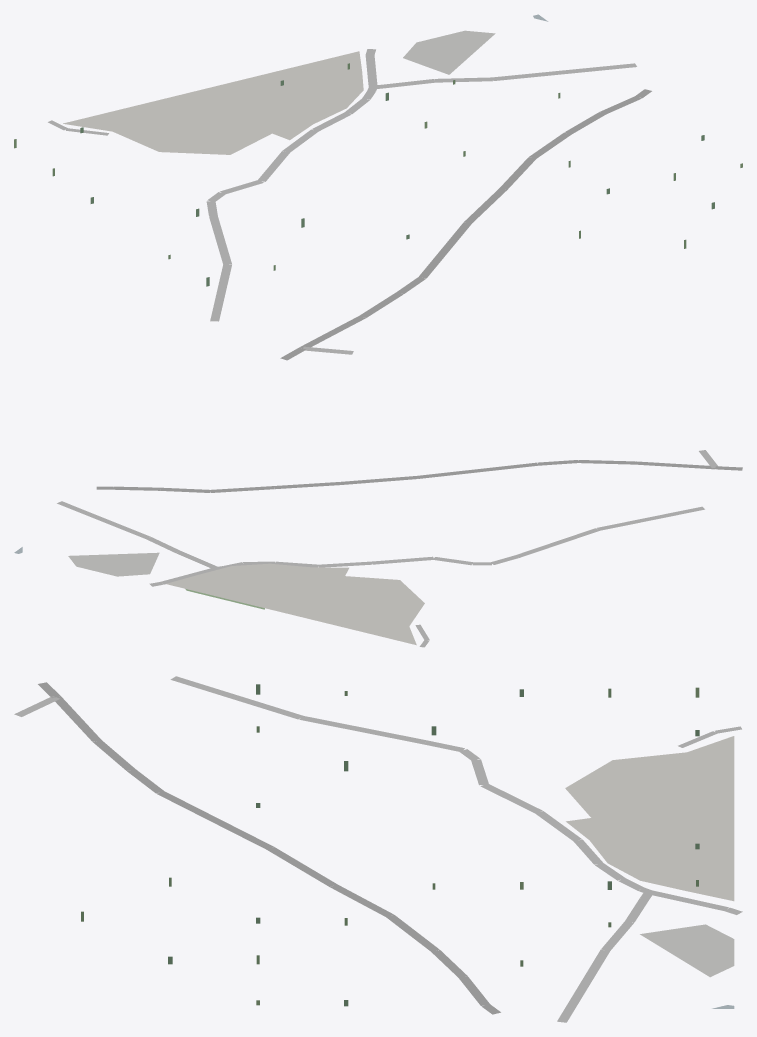
3 renders of one model, top to bottom at view 1: azimuth 30°, elevation 25°; view 2: azimuth 150°, elevation 25°; view 3: azimuth 270°, elevation 25°, orthographic. The views are drawn at different scales.
Size of the model in its own units: 536 by 19.24 by 498.
